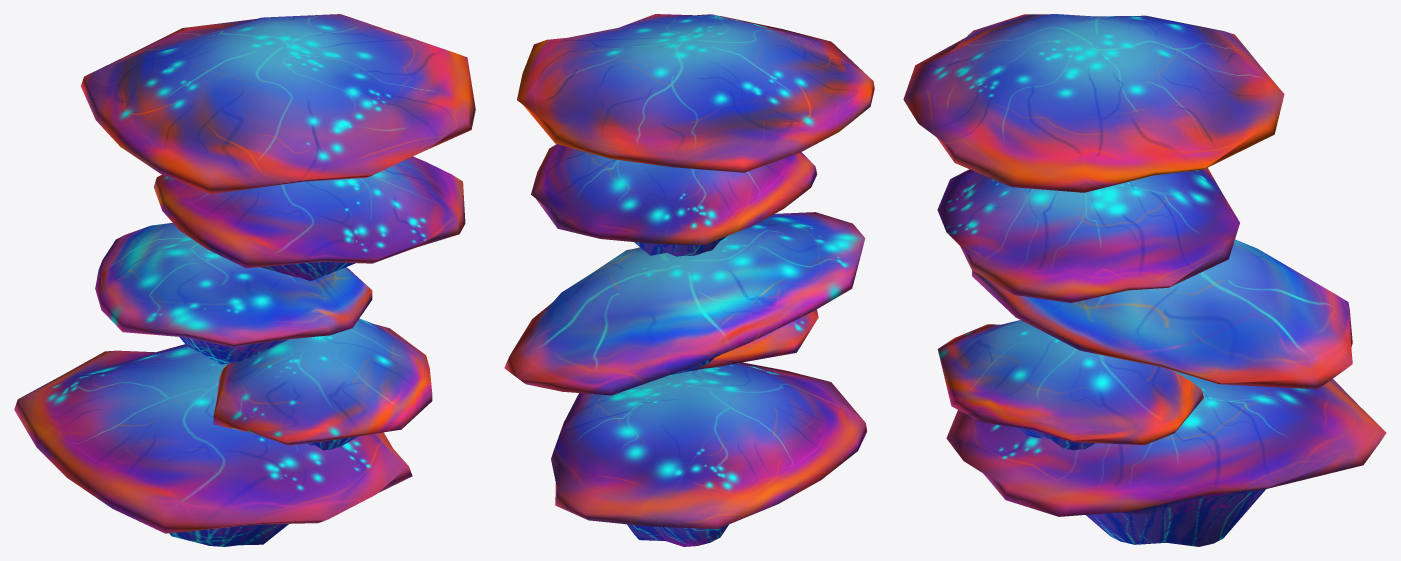
File: normal shroom.fbx
The picture shows the model from 3 angles, left to right: view 1: azimuth 30°, elevation 25°; view 2: azimuth 150°, elevation 25°; view 3: azimuth 270°, elevation 25°; orthographic projection. The views are drawn at different scales.
Parts seen in each view (by area): view 1: polySurface1; view 2: polySurface1; view 3: polySurface1.
Part boxes in pixels (x1,y1,x2,y2): polySurface1: (14,14,475,546); polySurface1: (504,14,874,546); polySurface1: (903,14,1386,546).
Size of the model in its own units: 1.36 by 1.81 by 1.59.
